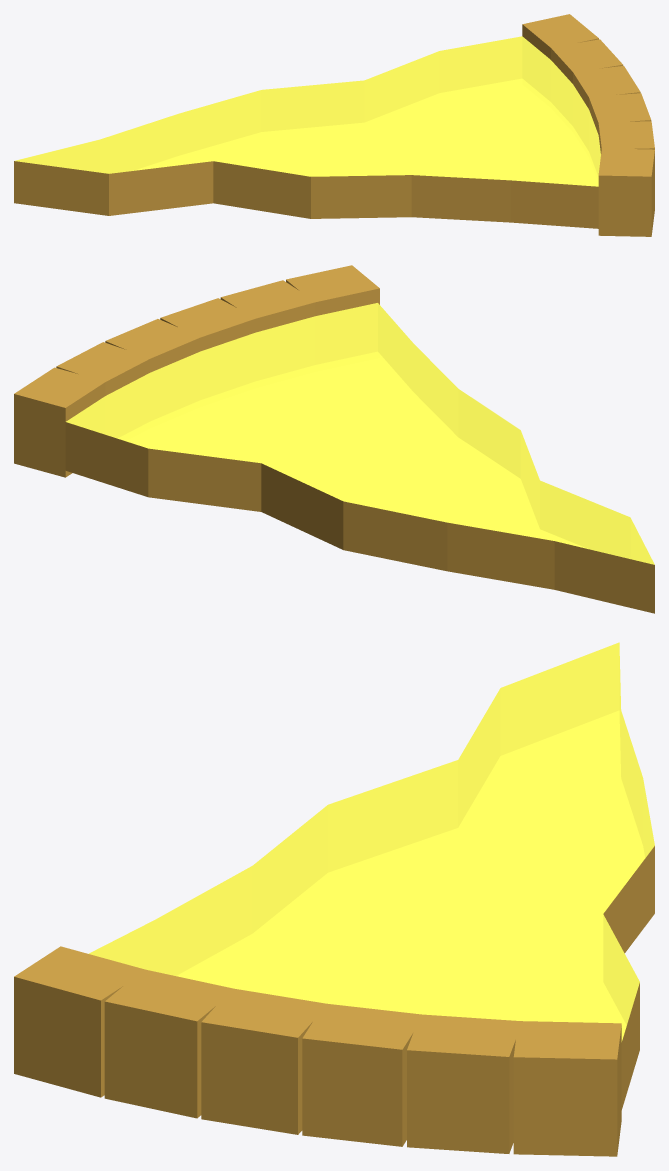
The model's file is prop_compass_piece_10_v01.glb.
The picture shows the model from 3 angles, top to bottom: view 1: azimuth 30°, elevation 25°; view 2: azimuth 150°, elevation 25°; view 3: azimuth 270°, elevation 25°; orthographic projection. The views are drawn at different scales.
Parts seen in each view (by area): view 1: piece_10; view 2: piece_10; view 3: piece_10.
Part boxes in pixels (x1,y1,x2,y2): piece_10: [14, 14, 654, 236]; piece_10: [14, 265, 654, 613]; piece_10: [14, 642, 654, 1156].
Bounding box in the file's own units: 0.482 × 0.05 × 0.299.
